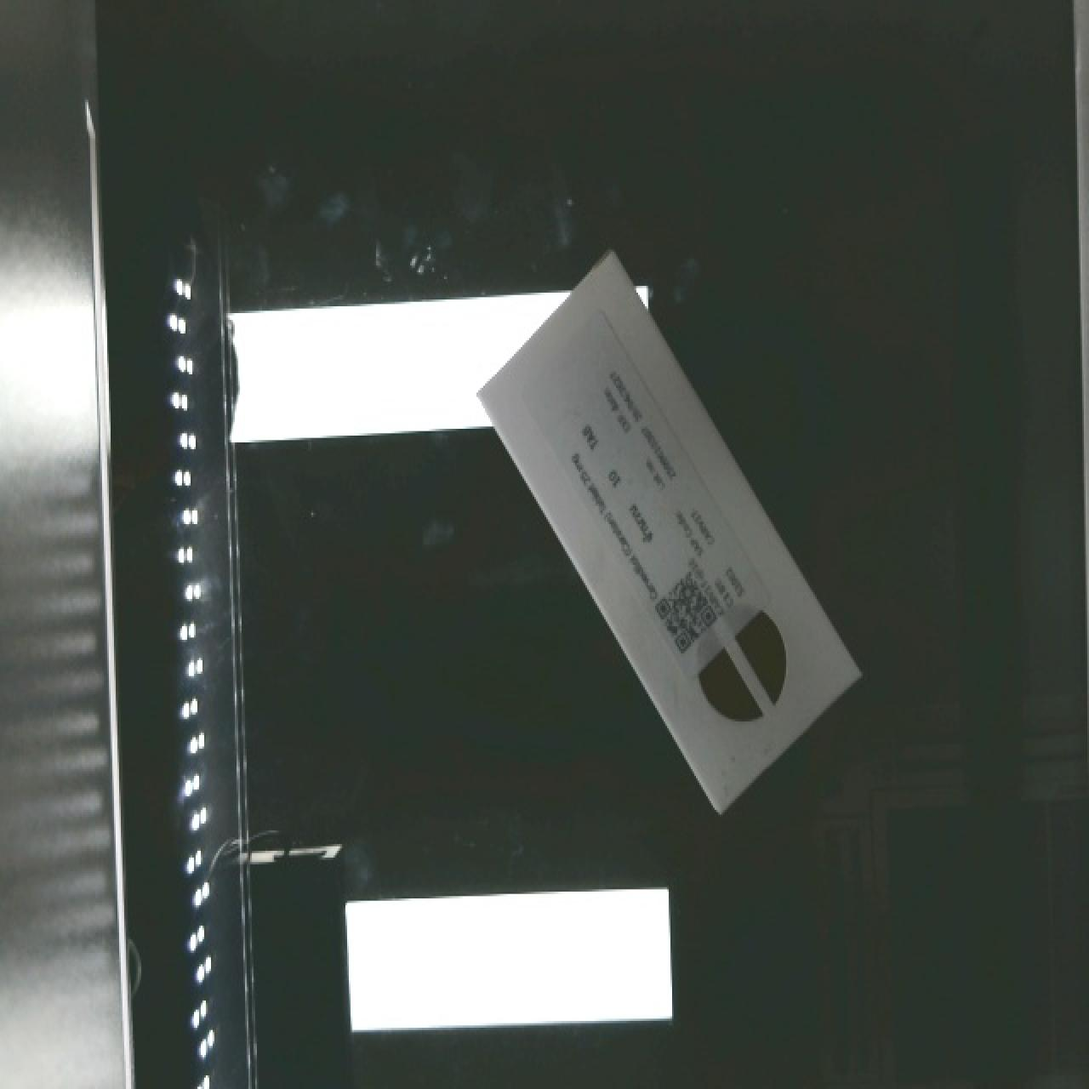qr_code: (638, 561, 739, 667)
